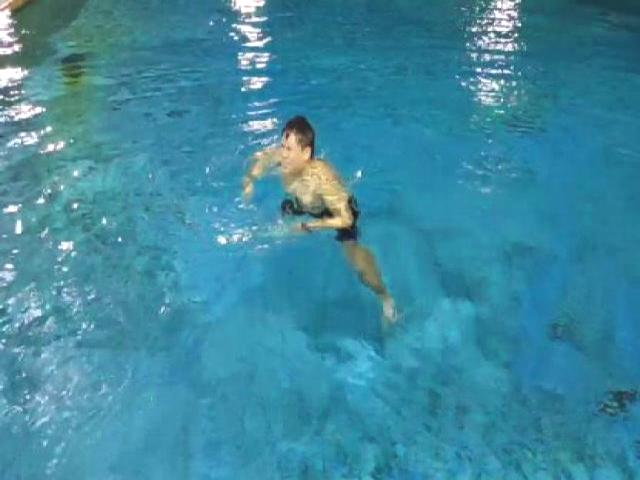swimming: (239, 114, 402, 336)
